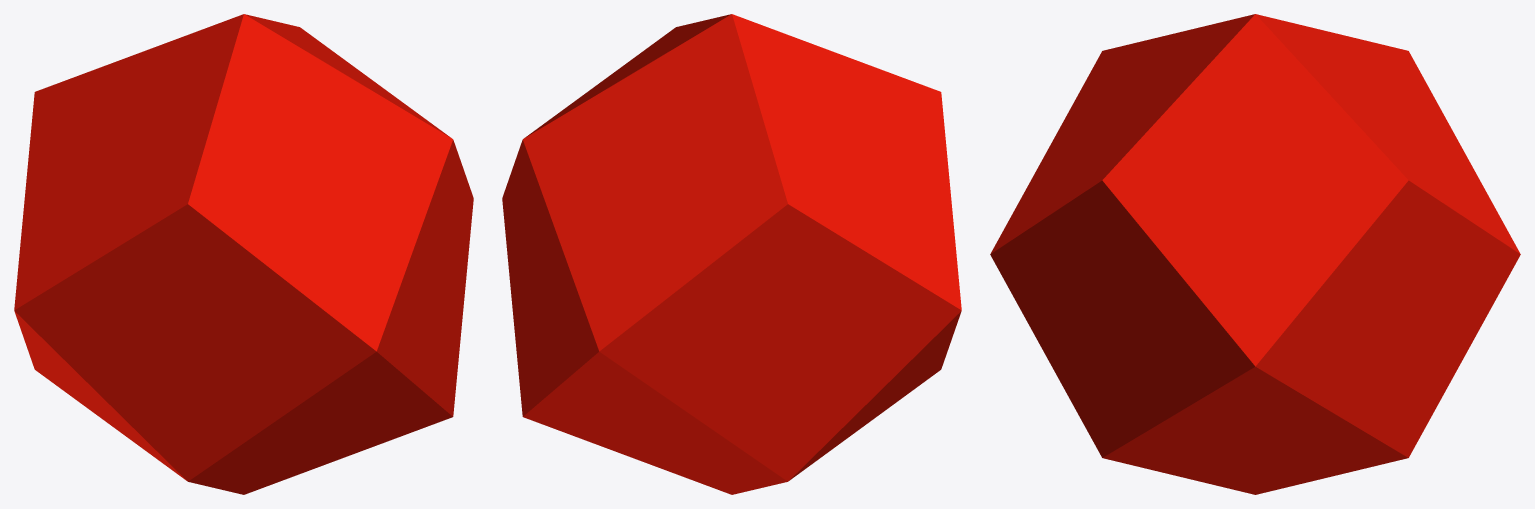
3 views of the same model, side by side, from view 1: azimuth 30°, elevation 25°; view 2: azimuth 150°, elevation 25°; view 3: azimuth 270°, elevation 25° (orthographic).
Visible parts, largest first — view 1: Quad Sphere; view 2: Quad Sphere; view 3: Quad Sphere.
Boxes of the visible parts, bbox=[...] form: Quad Sphere: bbox=[14, 14, 473, 494]; Quad Sphere: bbox=[502, 14, 961, 494]; Quad Sphere: bbox=[990, 14, 1520, 494].
Bounding box in the file's own units: 257 × 257 × 257.
